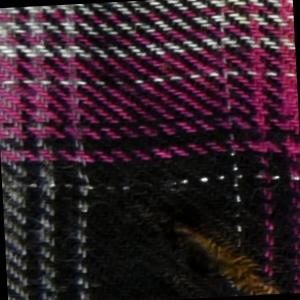Damage: (182, 228, 278, 300)
Oil Stain: (164, 220, 287, 300)
